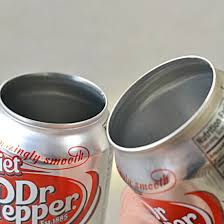can: (107, 52, 224, 224), (1, 64, 110, 224)
